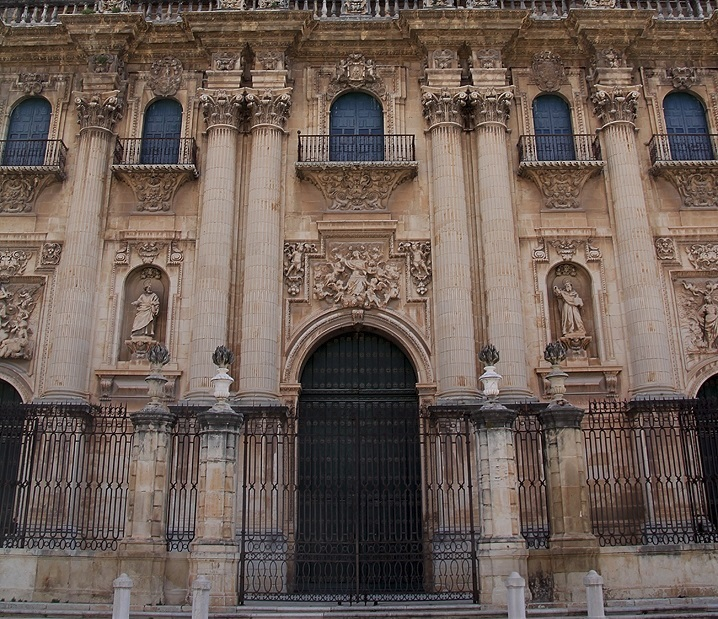arco-medio-punto: (276, 303, 439, 397), (117, 259, 177, 301), (543, 256, 597, 296), (326, 84, 387, 115), (658, 84, 712, 114), (530, 88, 576, 119), (7, 93, 54, 120), (141, 93, 186, 119)
